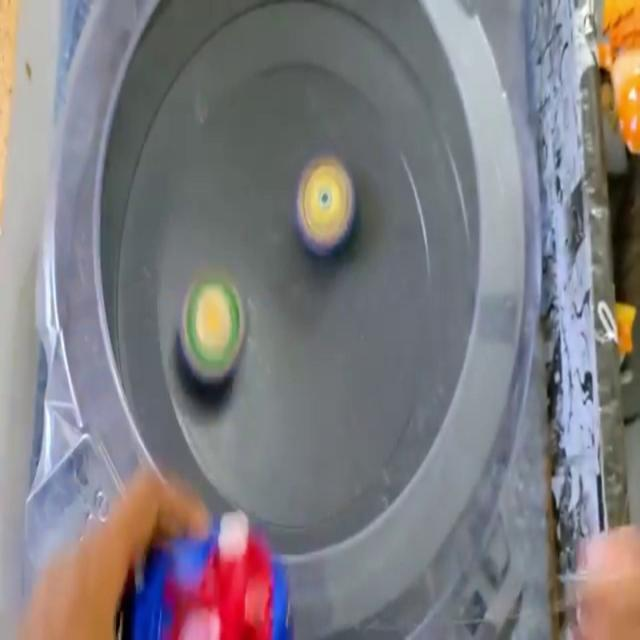Beyblade: (178, 270, 246, 386), (293, 153, 358, 260)
